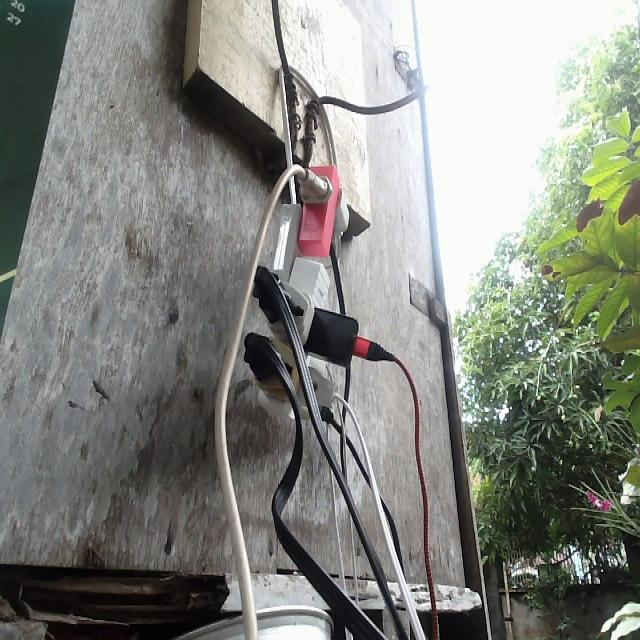-: (239, 161, 395, 424)
